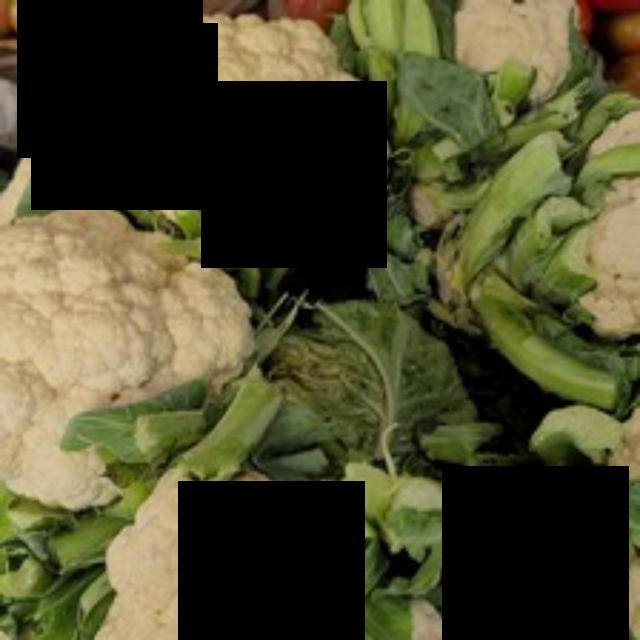cauliflower: (3, 193, 282, 541), (101, 5, 384, 245)
